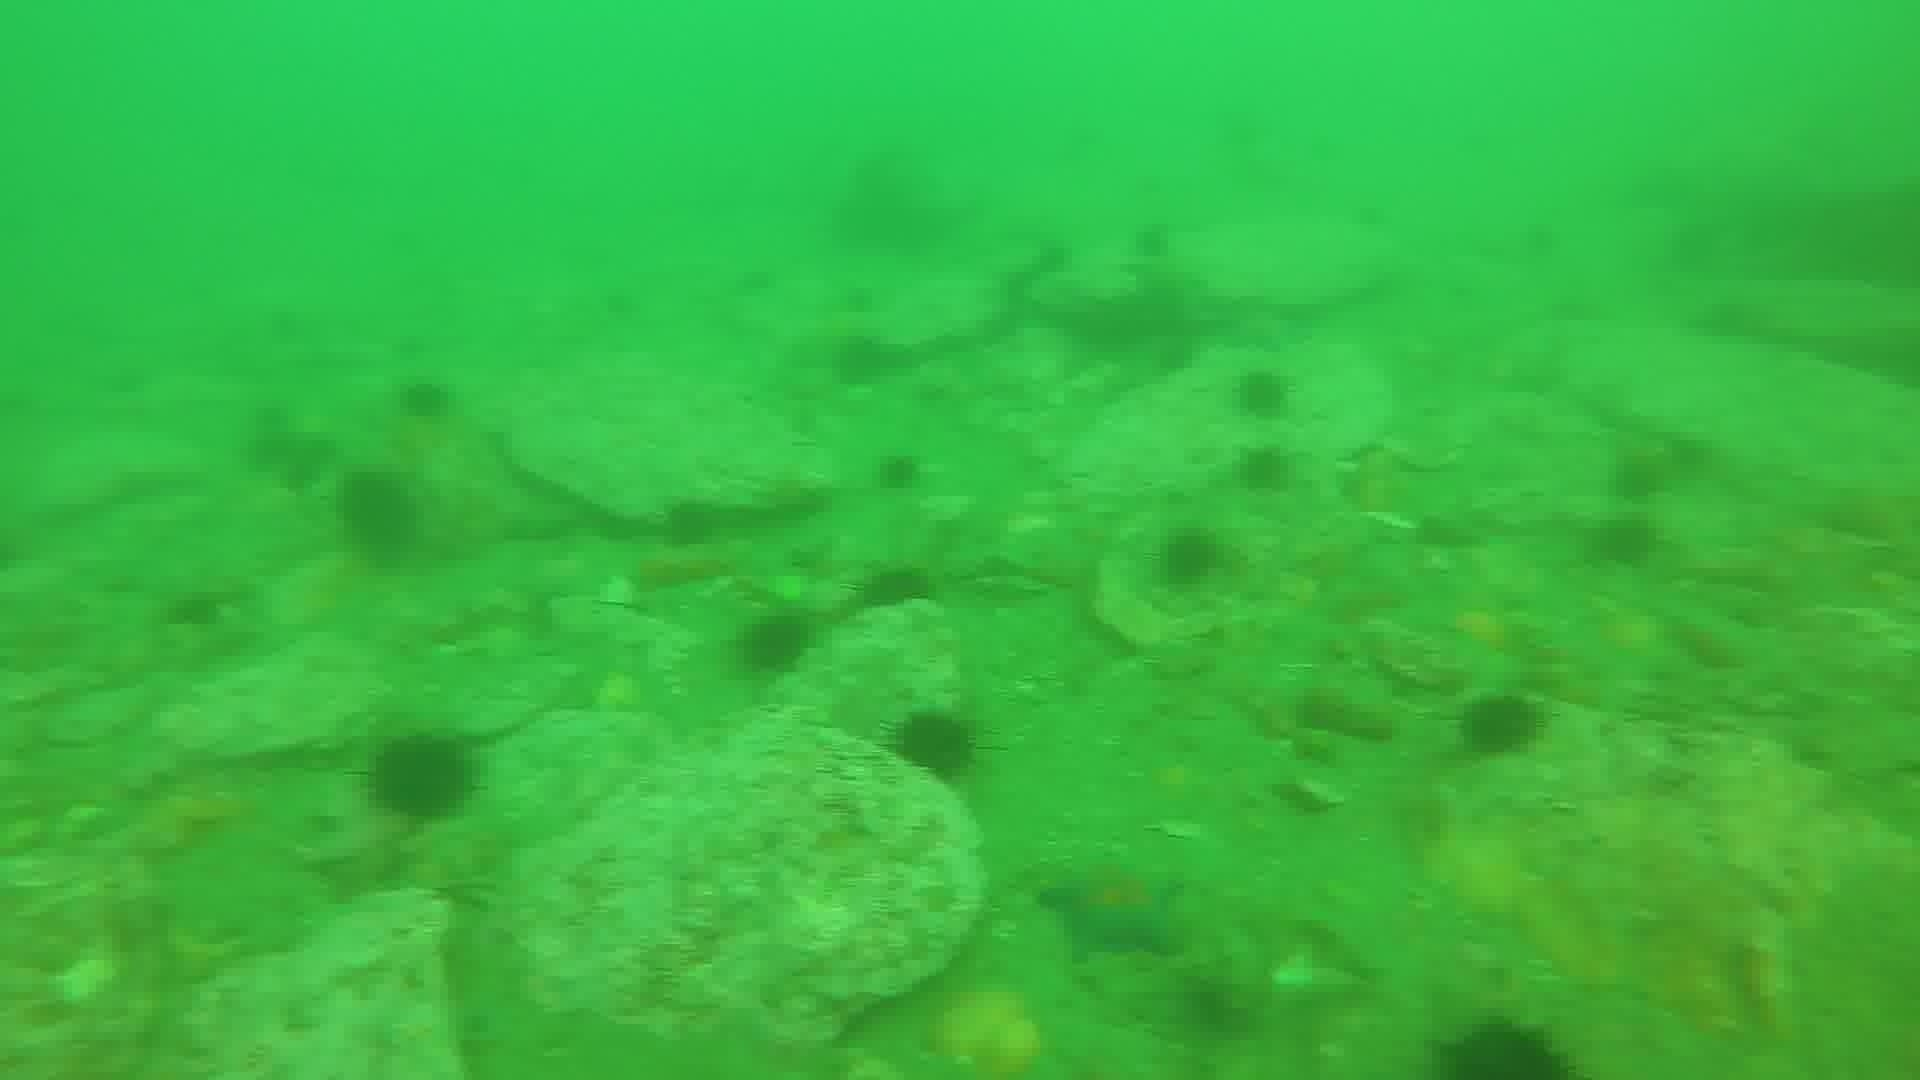echinus: (363, 729, 480, 827), (1431, 1014, 1575, 1079), (332, 468, 423, 562), (886, 705, 985, 789), (1455, 690, 1547, 764), (732, 607, 819, 680), (1150, 524, 1226, 593), (855, 560, 938, 620), (1586, 510, 1664, 574), (827, 331, 897, 393), (1228, 364, 1298, 425), (1605, 448, 1672, 506), (657, 495, 723, 553), (1232, 442, 1298, 498), (393, 373, 458, 426), (872, 448, 927, 497)
starfish: (1036, 856, 1189, 964), (260, 550, 388, 646), (1432, 593, 1535, 674)
